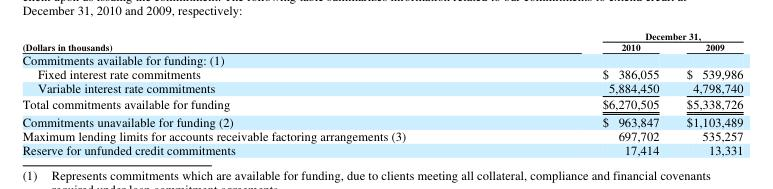table: (21, 28, 742, 157)
table column: (21, 28, 503, 157), (503, 28, 672, 157), (672, 28, 742, 157)
table column header: (21, 28, 742, 52)
table projected row header: (21, 52, 742, 66)
table row: (21, 95, 742, 112), (21, 112, 742, 128), (21, 80, 742, 95), (21, 142, 742, 157), (21, 52, 742, 66), (21, 66, 742, 80), (21, 128, 742, 142), (21, 28, 742, 41), (21, 41, 742, 52)
table spanning cell: (21, 28, 503, 52), (503, 28, 742, 41)
